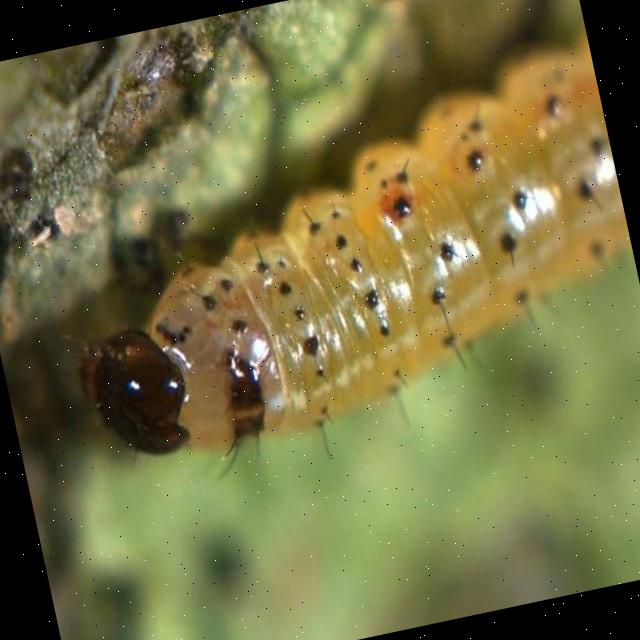worm: (31, 34, 640, 504), (71, 317, 203, 471)
